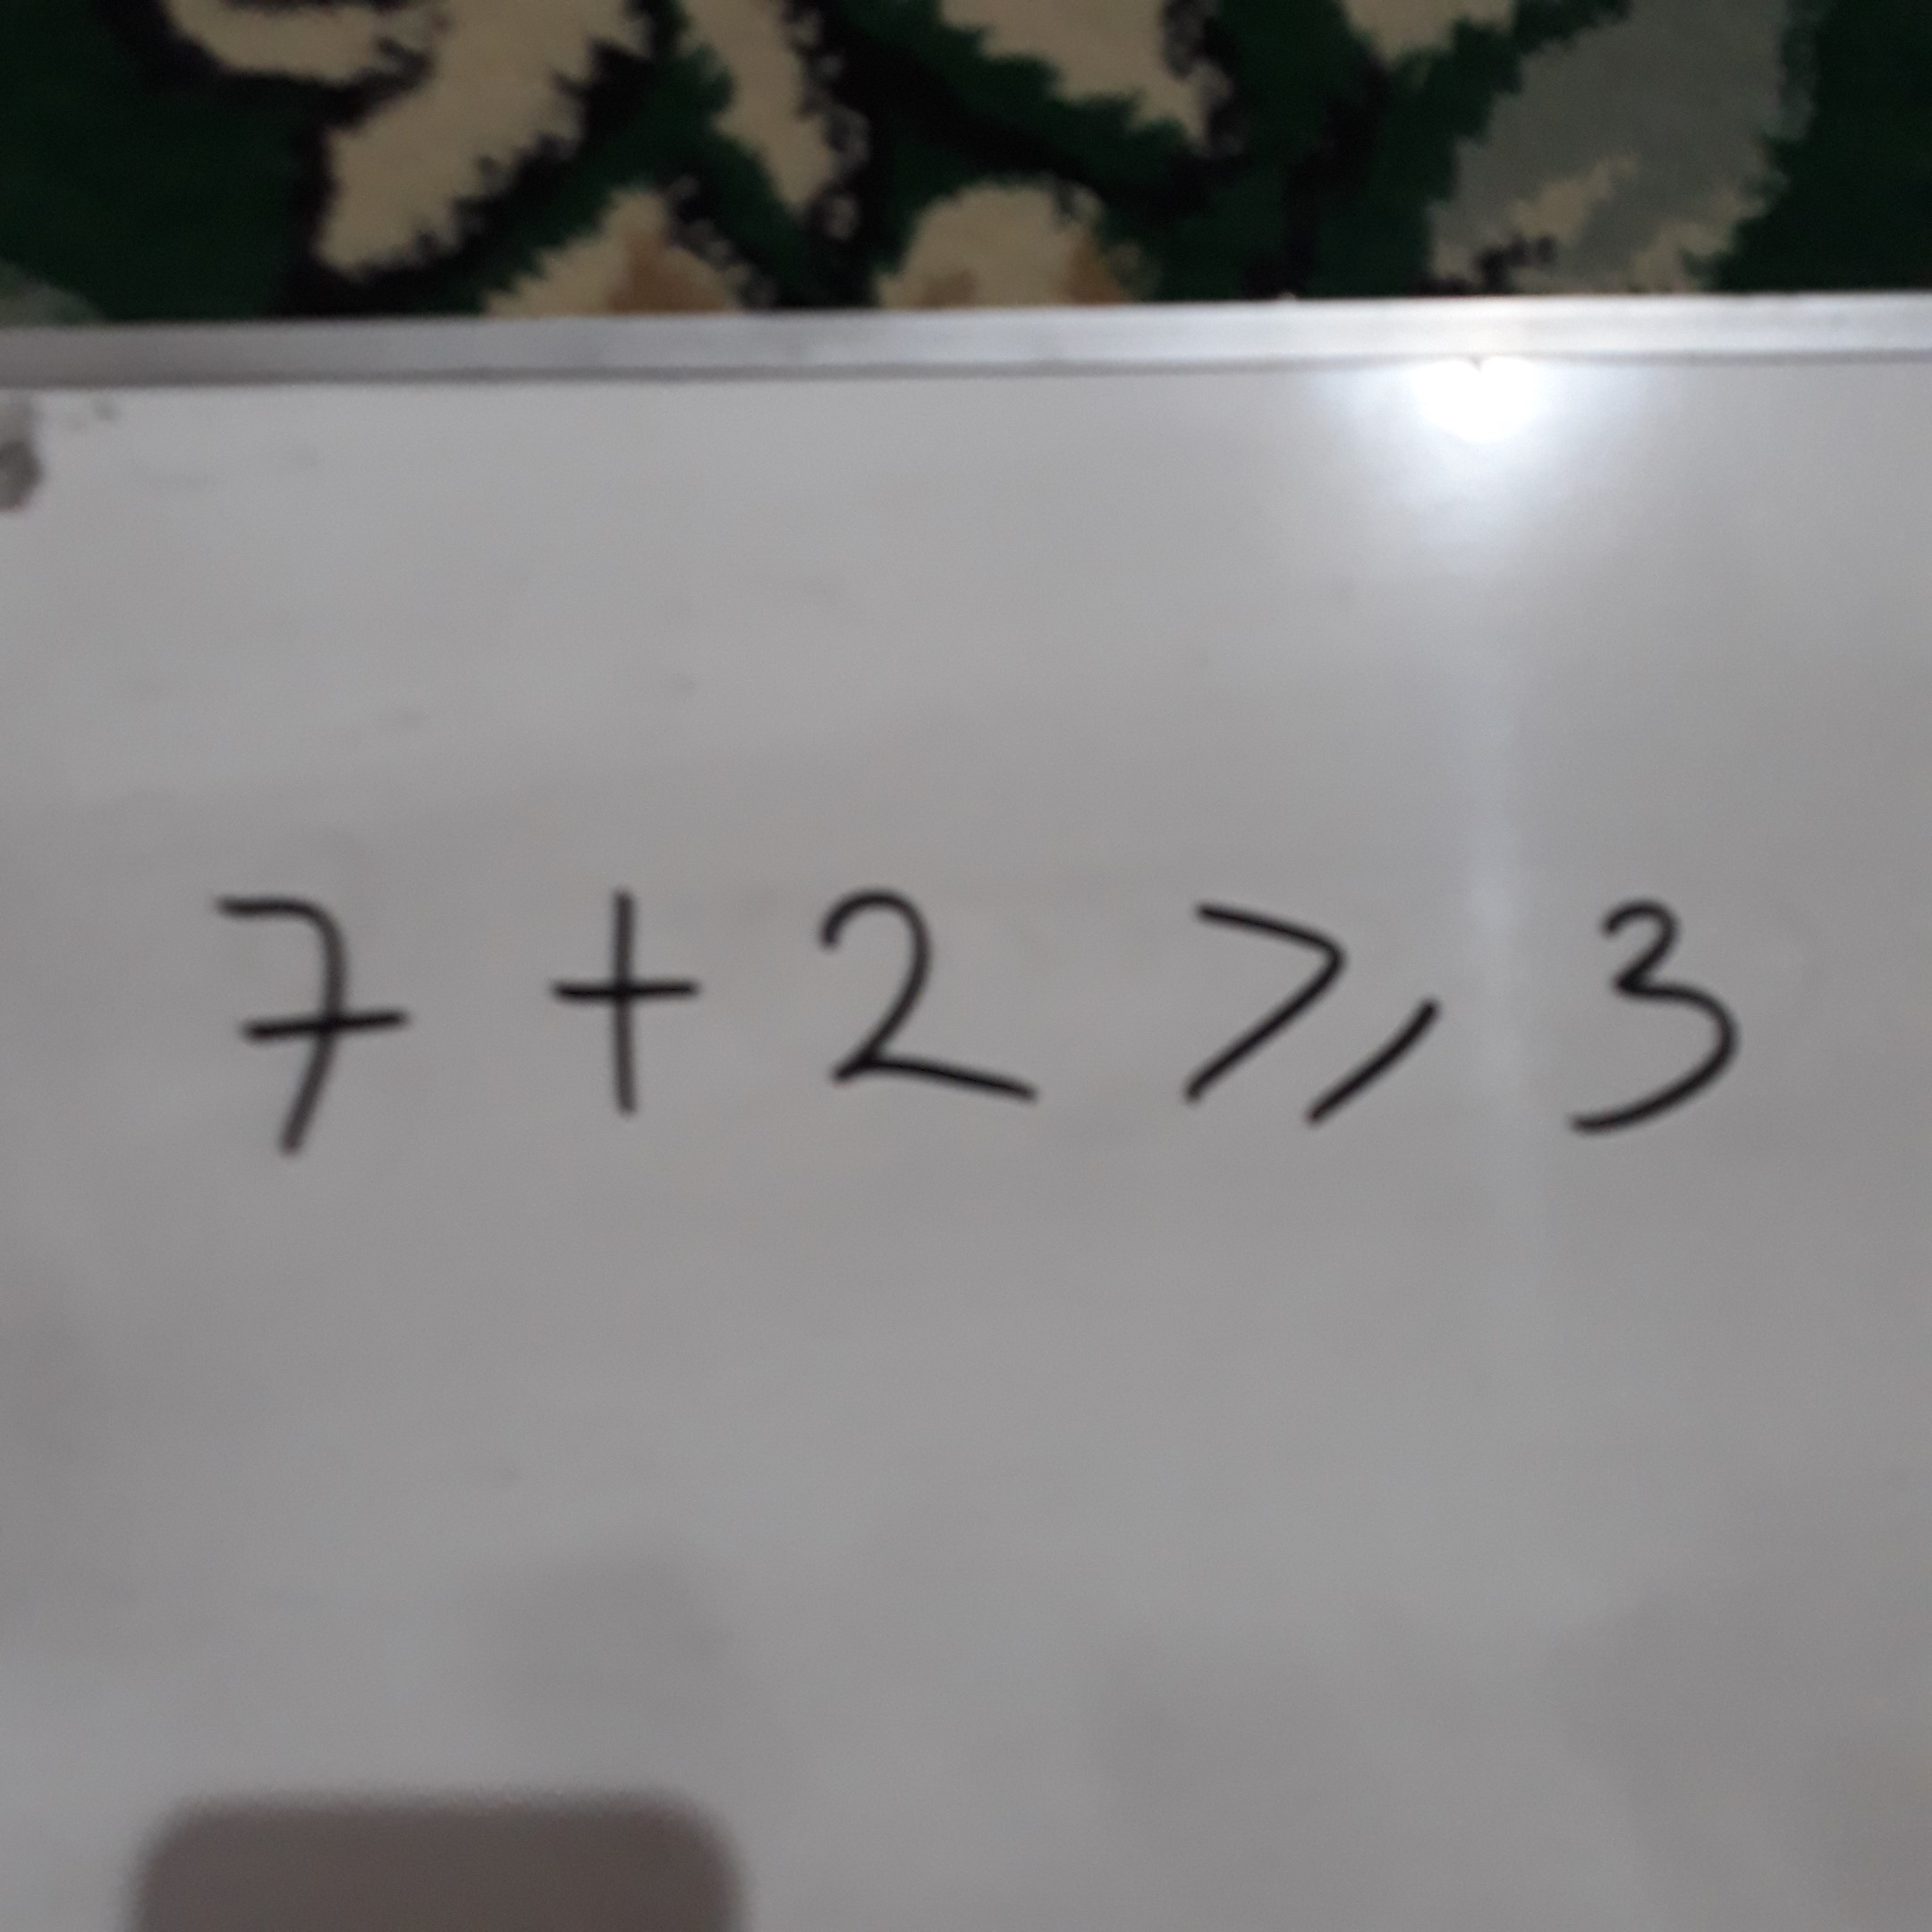morethan-equal: (1157, 850, 1462, 1140)
num2: (812, 844, 1061, 1134)
num3: (1520, 863, 1825, 1153)
num7: (157, 868, 447, 1181)
sum: (521, 842, 714, 1140)
